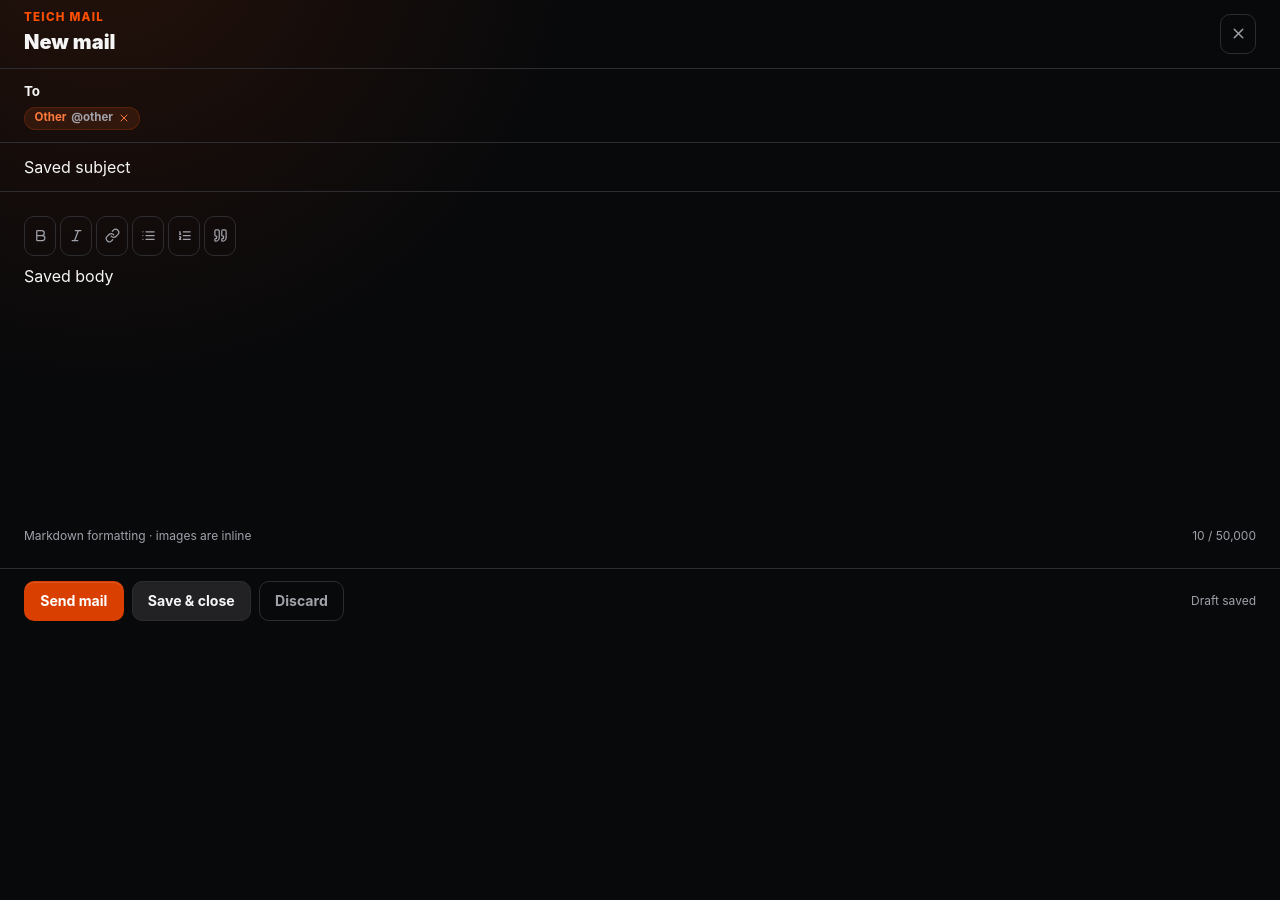
Test: MailComposer › prevents immediate repeat actions after a timing-free mail limit
The image size is (1280, 900).
Click the button "Send mail".
click(74, 601)  # box [24, 581, 124, 621]
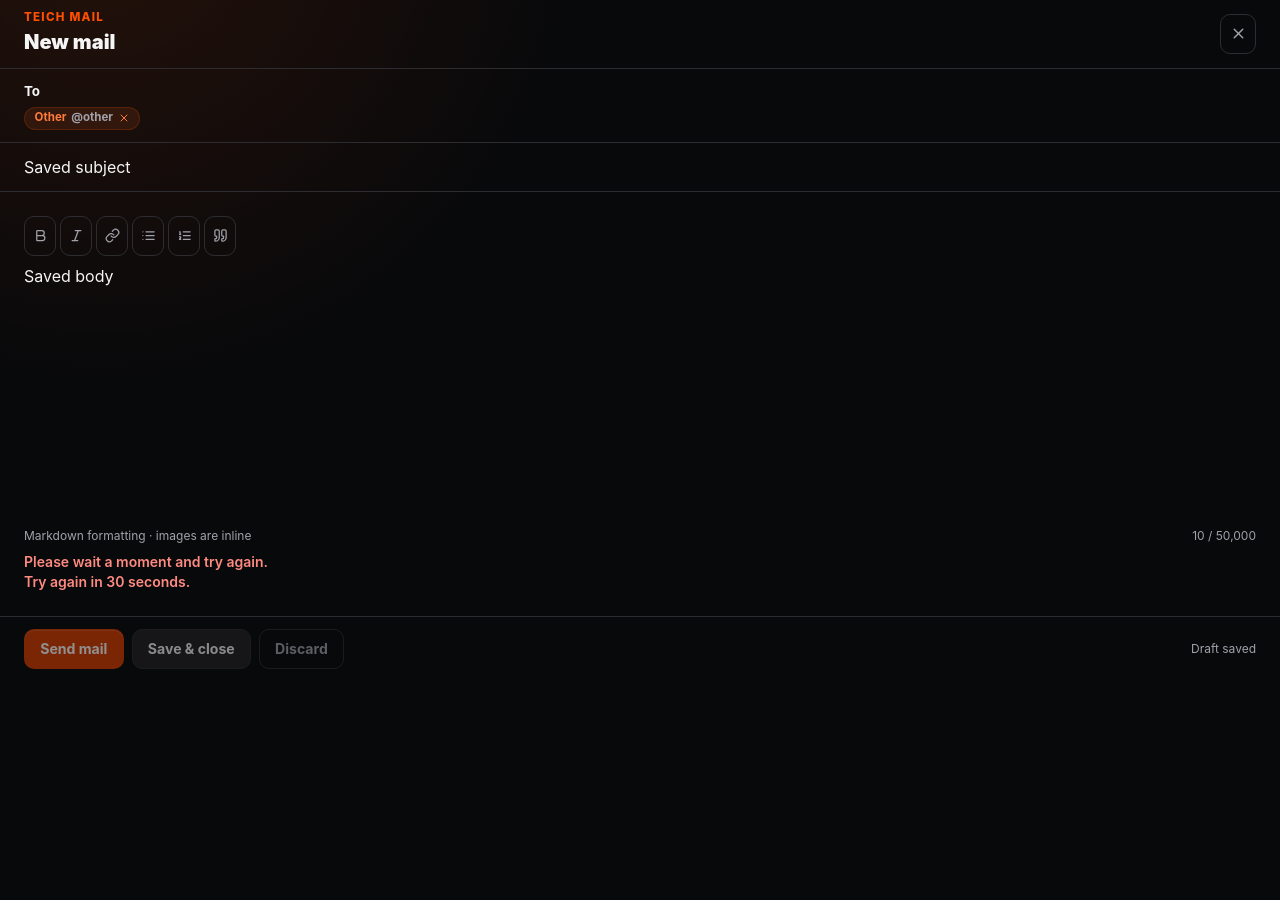
Result: the message "Please wait a moment and try again. Try again in 30 seconds." is shown at [24, 553, 268, 590]
Result: the button "Send mail" is disabled at [24, 629, 124, 669]
Result: the button "Save & close" is disabled at [132, 629, 251, 669]
